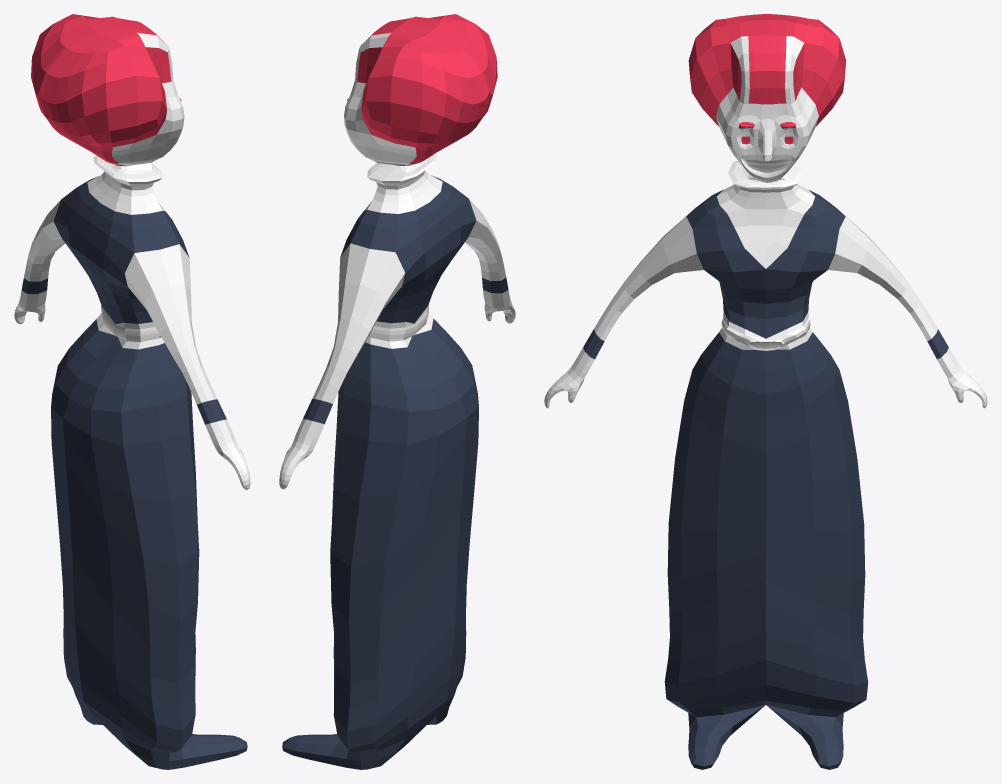
Rendered from Townspeople2Woman.fbx.
3 views of the same model, side by side, from view 1: azimuth 30°, elevation 25°; view 2: azimuth 150°, elevation 25°; view 3: azimuth 270°, elevation 25° (orthographic). The views are drawn at different scales.
Parts seen in each view (by area): view 1: MotherMesh; view 2: MotherMesh; view 3: MotherMesh.
Part boxes in pixels (x1=…): MotherMesh: x1=14, y1=14, x2=250, y2=769; MotherMesh: x1=279, y1=14, x2=515, y2=769; MotherMesh: x1=544, y1=14, x2=987, y2=769.
Size of the model in its own units: 0.7809 by 3.09 by 1.78.
